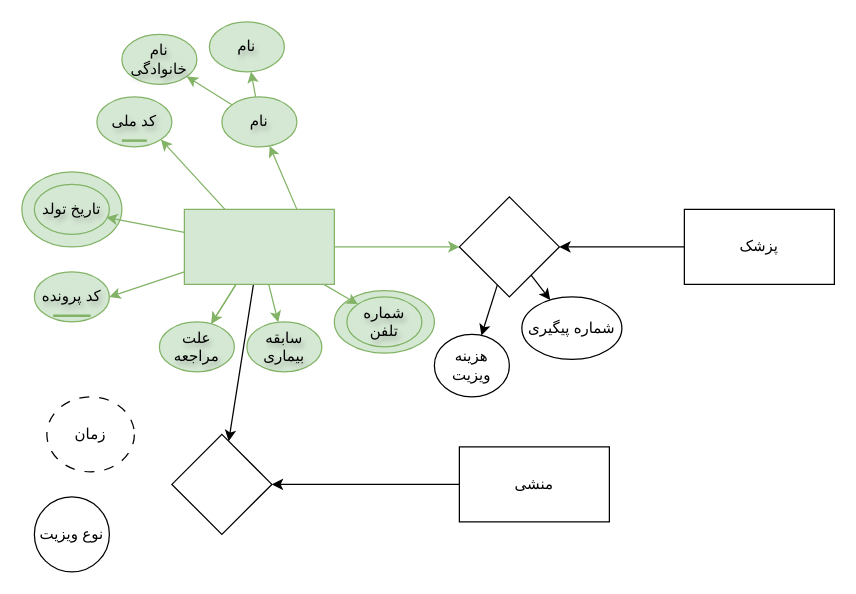
Some shapes in this 856 by 594 pixel diagram are drawn without their labels. The shapes that lost their labels are listed below. From the top down, each one's centre as x and y in pixels, then its label:
At [258,246]: "بیمار".
At [508,246]: "ویزیت".
At [221,483]: "نوبت دهی".
